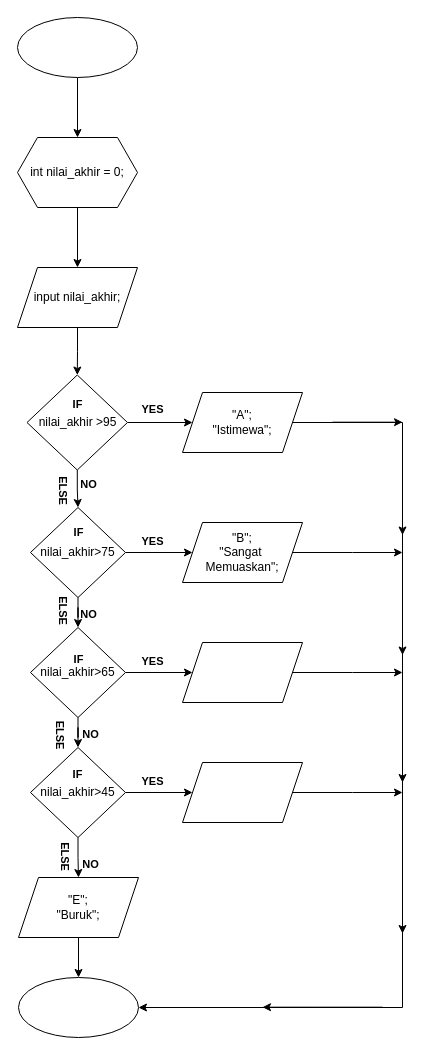
Some shapes in this 428 by 1055 pixel diagram are drawn without their labels. Here are the shapes that lost their labels. From the top down, the centre of each, then its label:
[77,47]: START
[242,672]: "C"; "Cukup";
[242,792]: "D"; "Sangat Kurang";
[78,1007]: END
